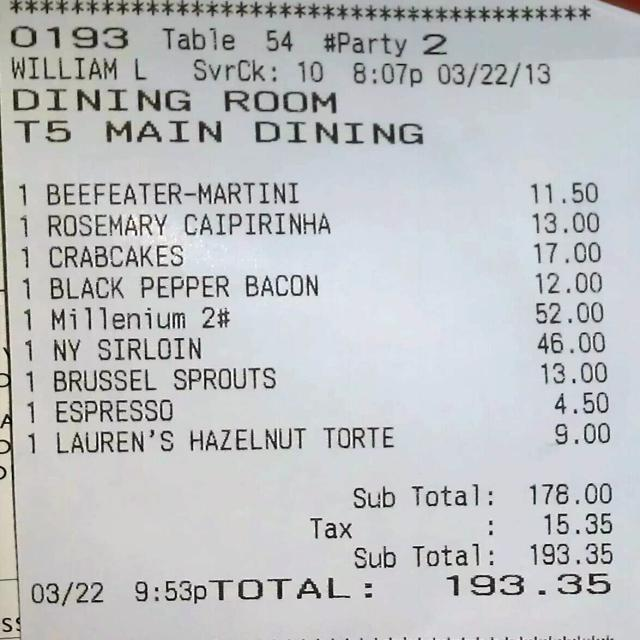TotalPrice: (204, 562, 624, 608)
